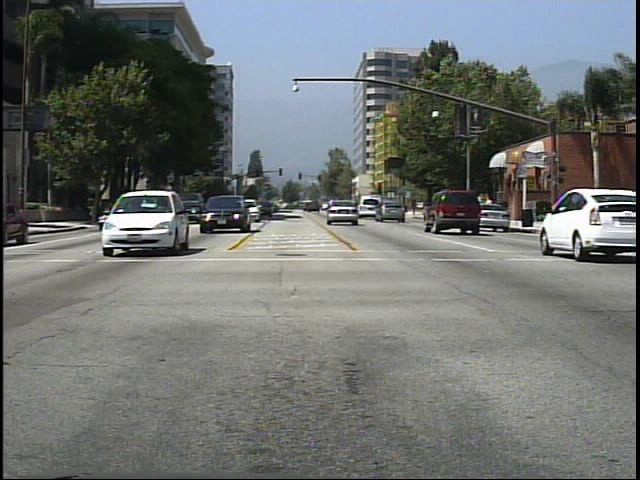person: (481, 193, 500, 227), (441, 193, 459, 227)
